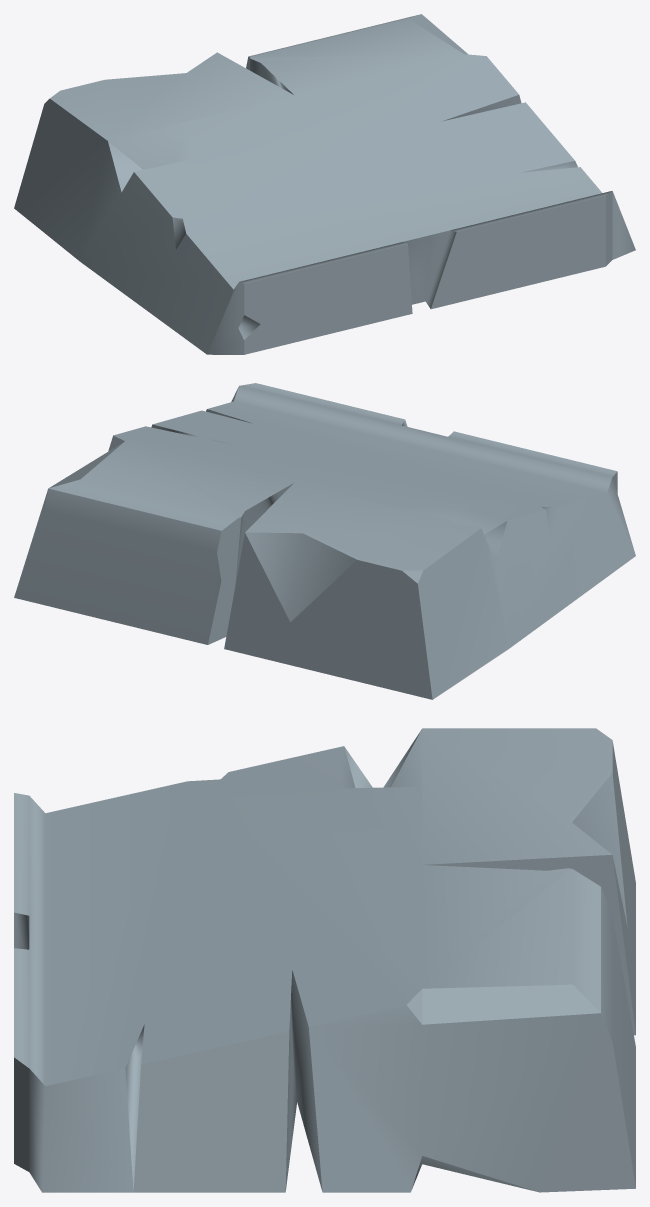
The model's file is Stone_No3DTexture.fbx.
3 views of the same model, one above another, from view 1: azimuth 30°, elevation 25°; view 2: azimuth 150°, elevation 25°; view 3: azimuth 270°, elevation 25° (orthographic). The views are drawn at different scales.
Visible parts, largest first — view 1: pCube1; view 2: pCube1; view 3: pCube1.
Boxes of the visible parts, <box> form: pCube1: <box>14,14,635,354</box>; pCube1: <box>14,383,635,699</box>; pCube1: <box>14,728,635,1192</box>.
Size of the model in its own units: 12.02 by 3.06 by 10.08.
